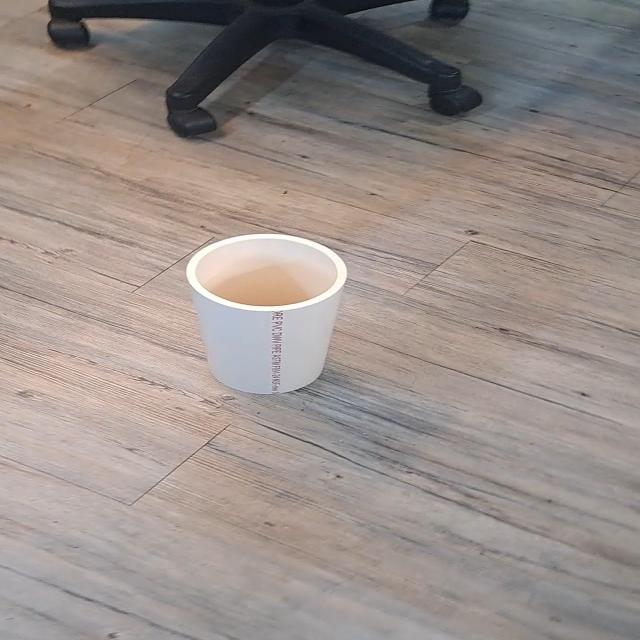CORAL: (172, 232, 376, 397)
